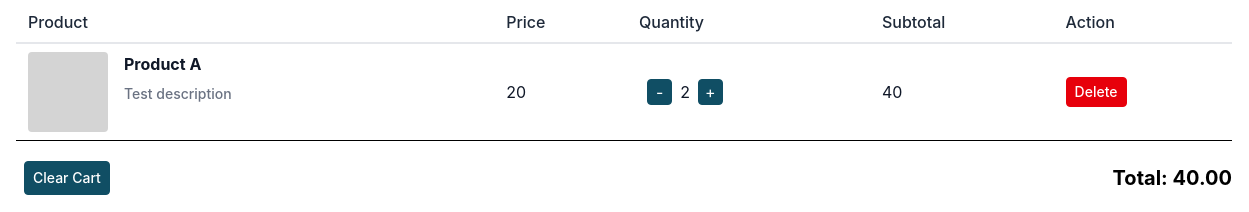
Scenario: Cart component › should increase product quantity and update total price
Click the button "+": (710, 92) [698,79,723,105]
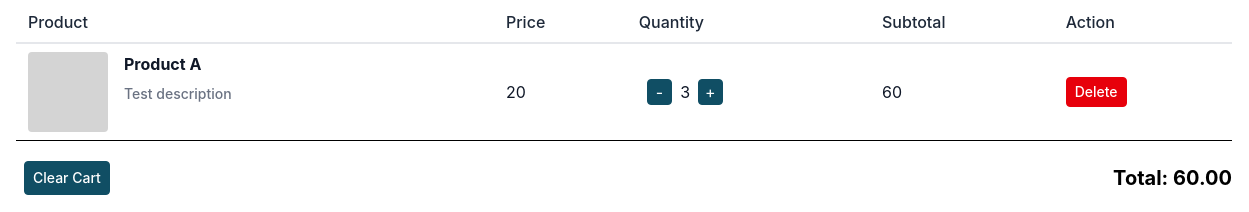
Expected: the text "60" is shown, [870,43,1054,140]
Expected: the heading "Total: 60.00" is shown, [1113,164,1232,192]
